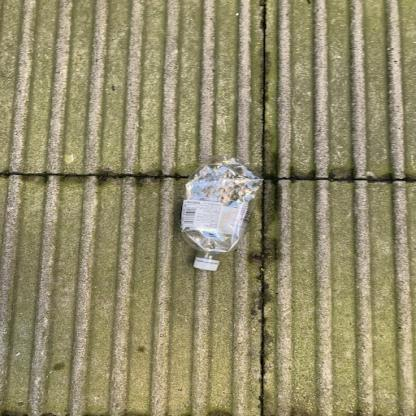trash: (179, 157, 265, 275)
